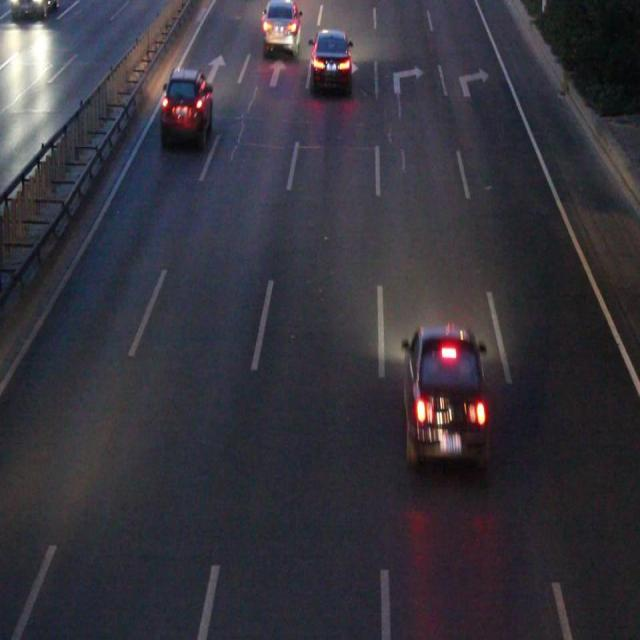car: (403, 328, 488, 462), (161, 72, 211, 144), (312, 31, 350, 88), (262, 1, 300, 52)
